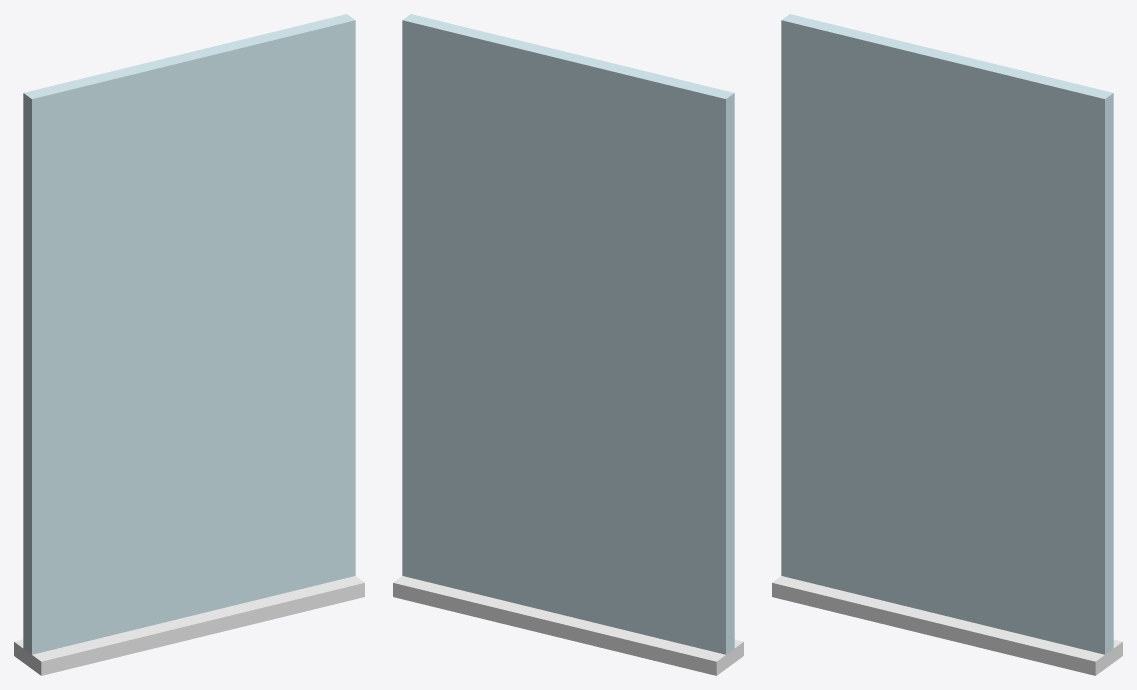
Rendered from 28_wall.FBX.
3 renders of one model, left to right at view 1: azimuth 30°, elevation 25°; view 2: azimuth 150°, elevation 25°; view 3: azimuth 330°, elevation 25°, orthographic.
Visible parts, largest first — view 1: 28_wall; view 2: 28_wall; view 3: 28_wall.
Part boxes in pixels (x1,y1,x2,y2): 28_wall: (14, 14, 364, 675); 28_wall: (393, 14, 743, 675); 28_wall: (772, 14, 1122, 675).
Bounding box in the file's own units: 256 × 432 × 37.56.
